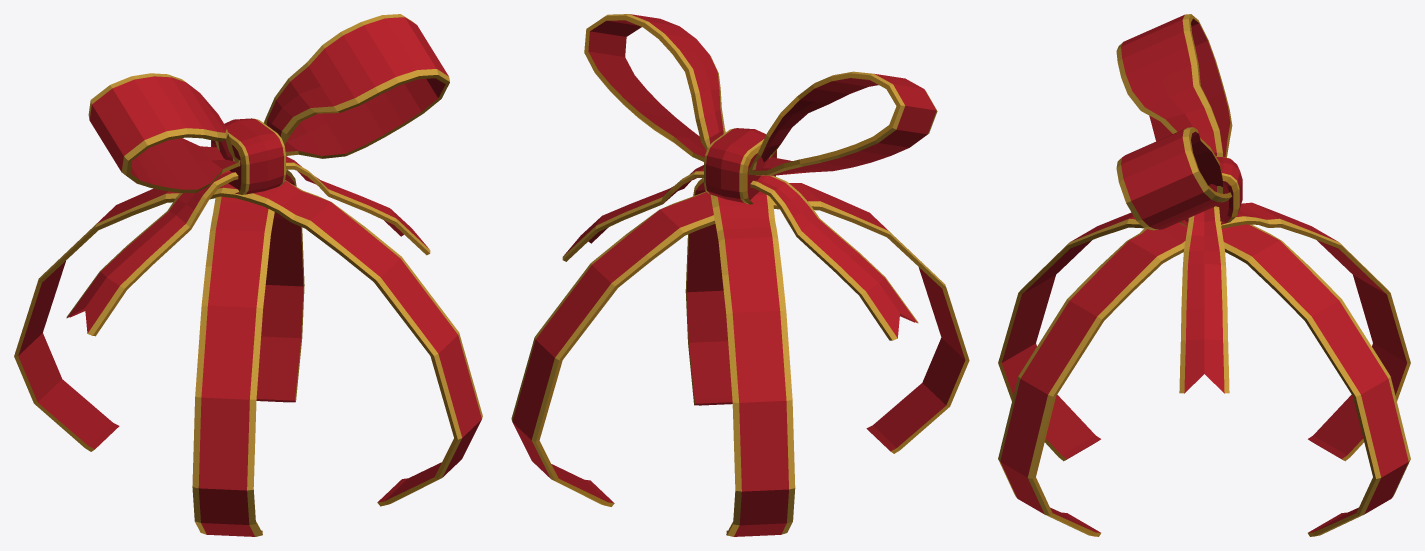
File: Cosmetic_Gift_Bow.glb
3 renders of one model, left to right at view 1: azimuth 30°, elevation 25°; view 2: azimuth 150°, elevation 25°; view 3: azimuth 270°, elevation 25°, orthographic. The views are drawn at different scales.
Parts seen in each view (by area): view 1: Cosmetic_Gift_Bow; view 2: Cosmetic_Gift_Bow; view 3: Cosmetic_Gift_Bow.
Boxes of the visible parts, x1,y1,x2,y2 form: Cosmetic_Gift_Bow: (14,14,482,536); Cosmetic_Gift_Bow: (511,14,969,536); Cosmetic_Gift_Bow: (998,14,1410,536).
Bounding box in the file's own units: 1.02 × 1.22 × 1.11.
